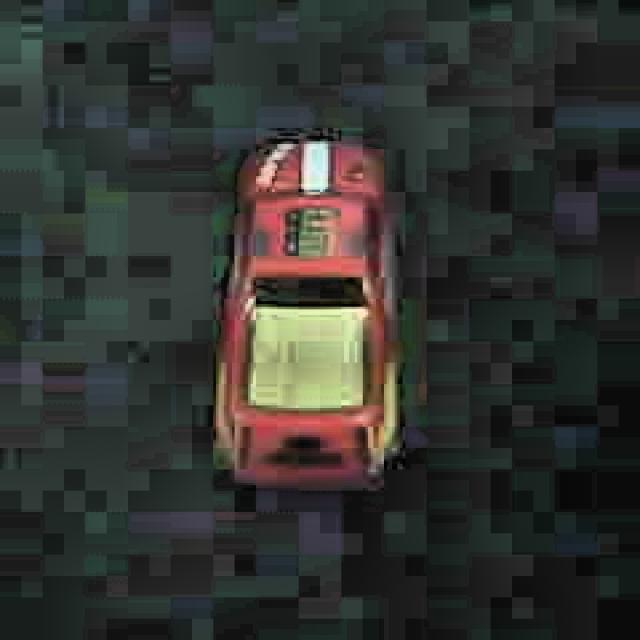car: (209, 128, 410, 490)
